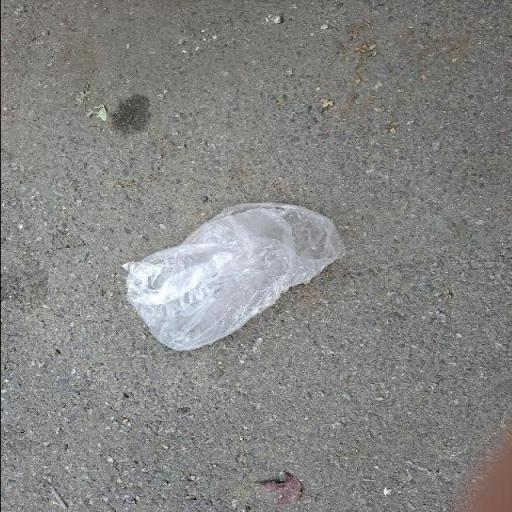plastic-bag: (114, 205, 343, 354)
